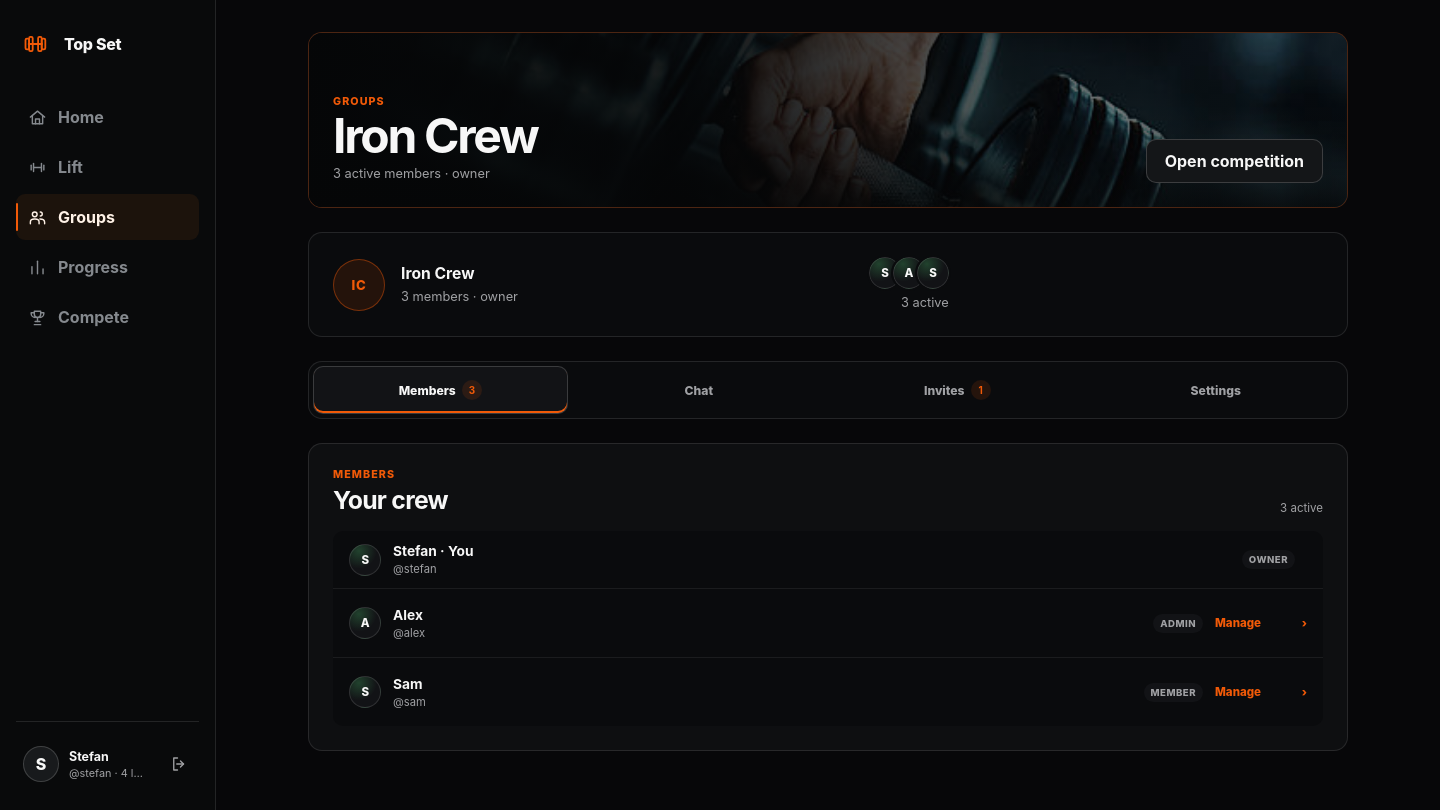
Test: GroupAdministrationScreen › exposes a dedicated member-only chat destination inside Groups
Click the tab "Chat". click: (699, 390)
box: [572,366,826,414]
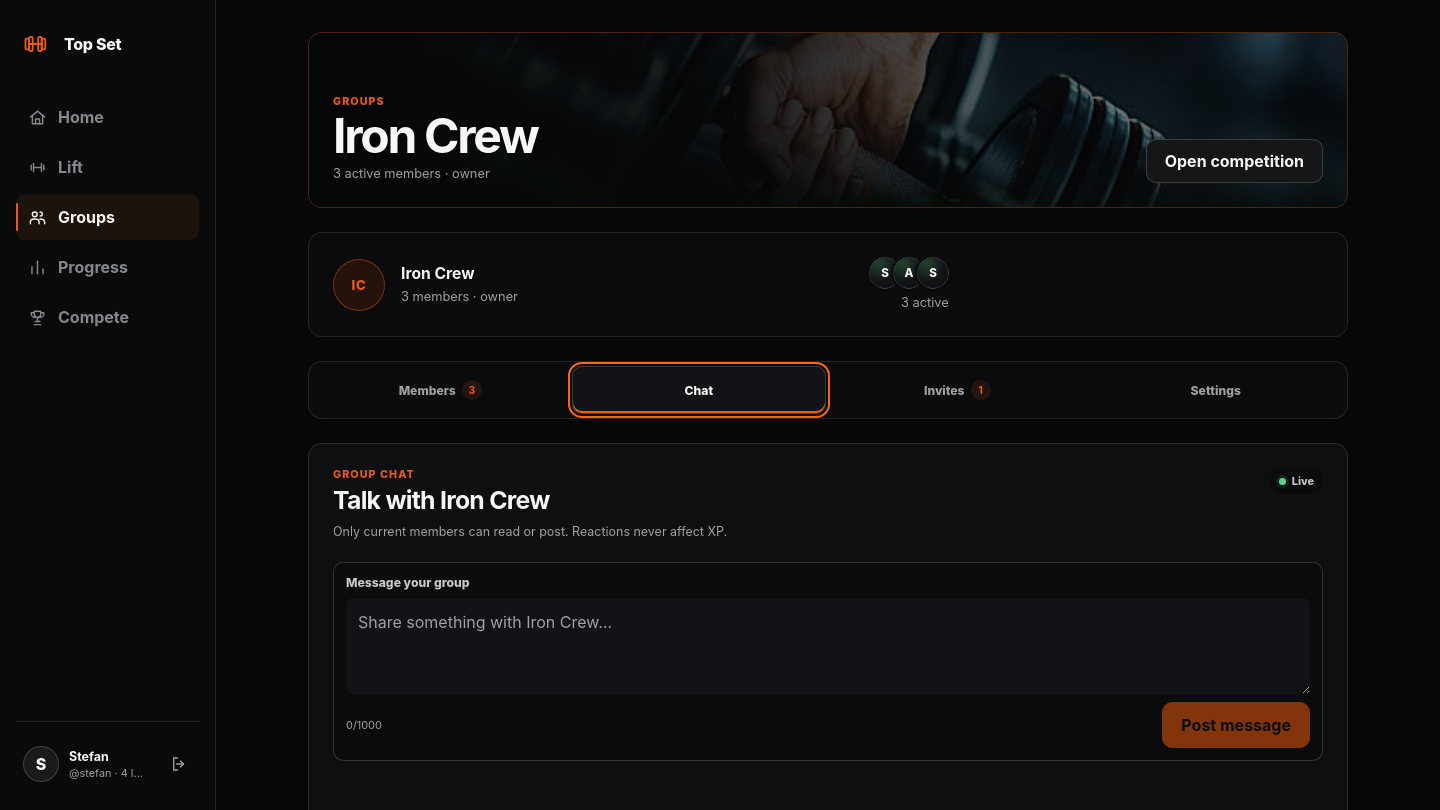
Check: the heading "Talk with Iron Crew" is shown, box [333,485,550,515]
Check: the text "Only current members can read or post" is shown, box [333,524,727,539]
